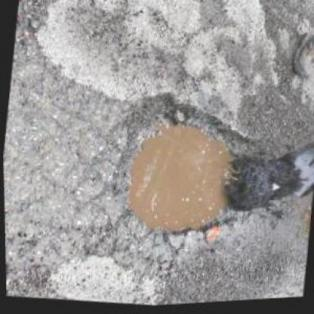Hueco: (97, 84, 272, 254)
